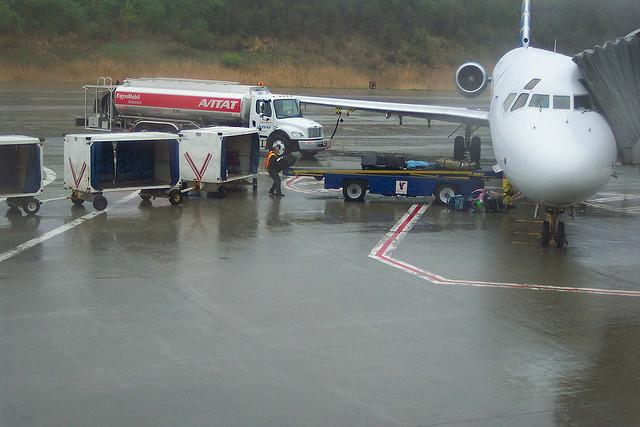airplane: (251, 1, 622, 250)
